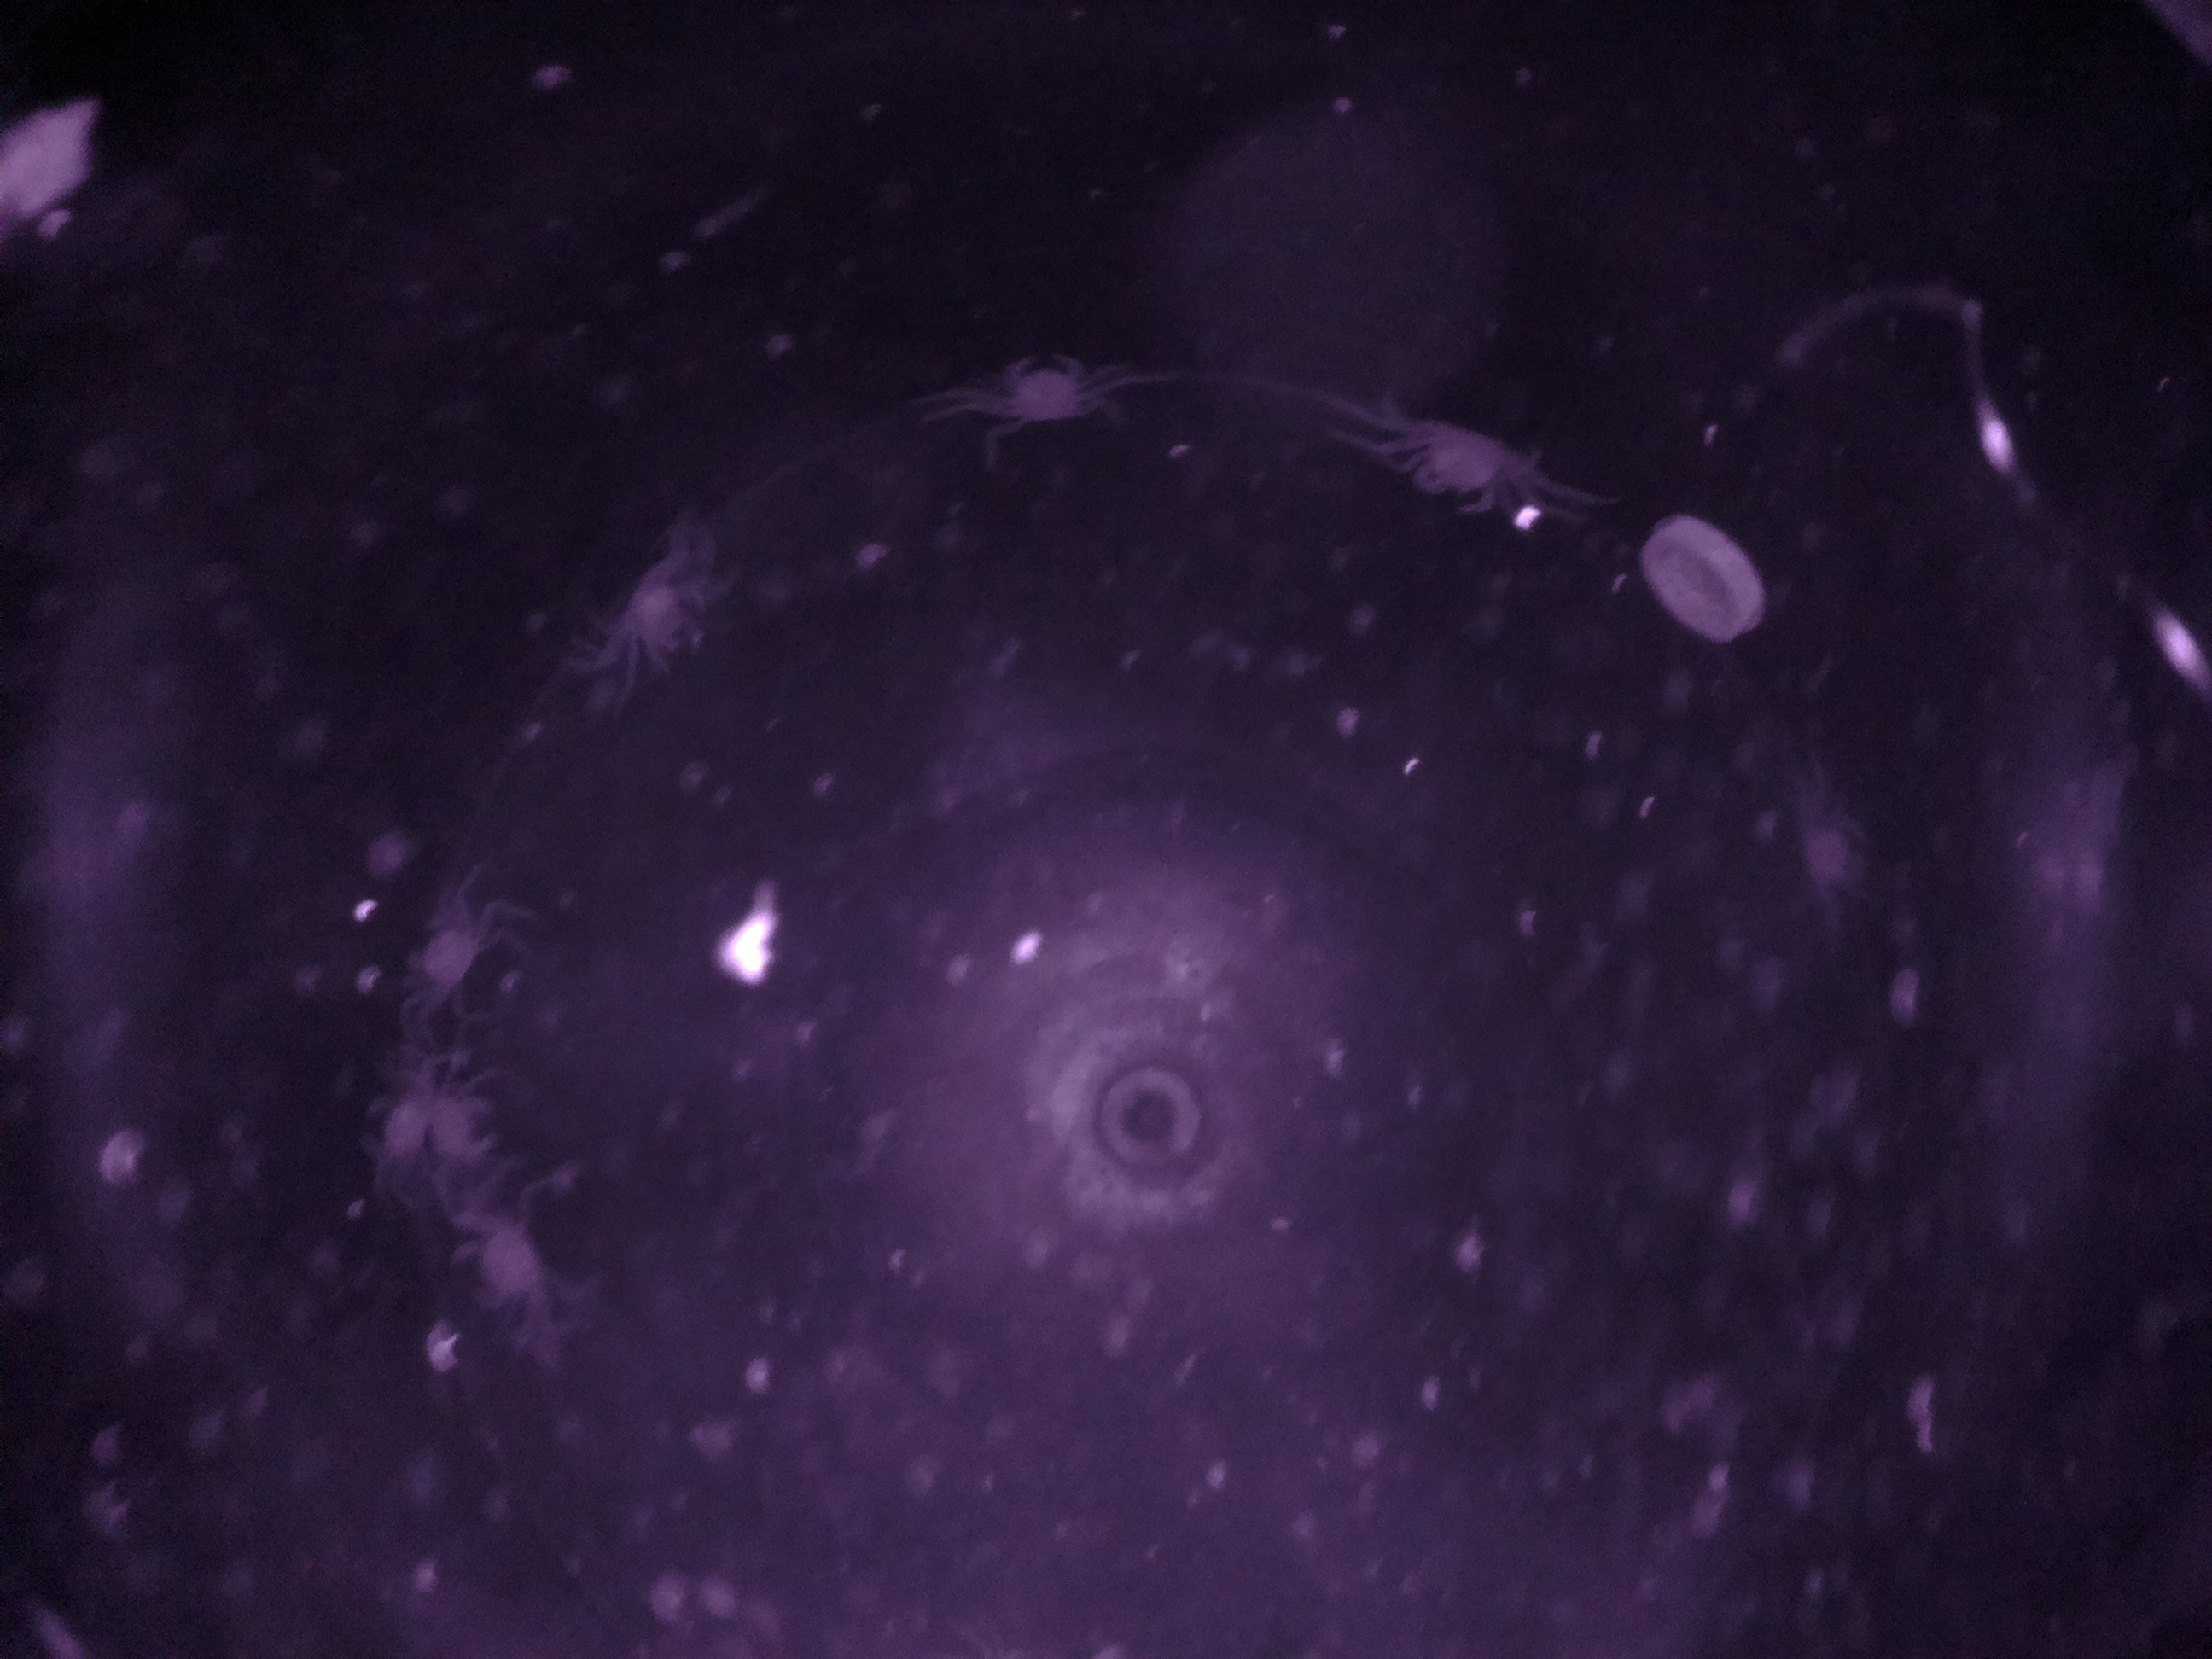Crab: (427, 1188, 578, 1328), (1392, 403, 1526, 537), (383, 885, 505, 1014), (982, 331, 1099, 451)
